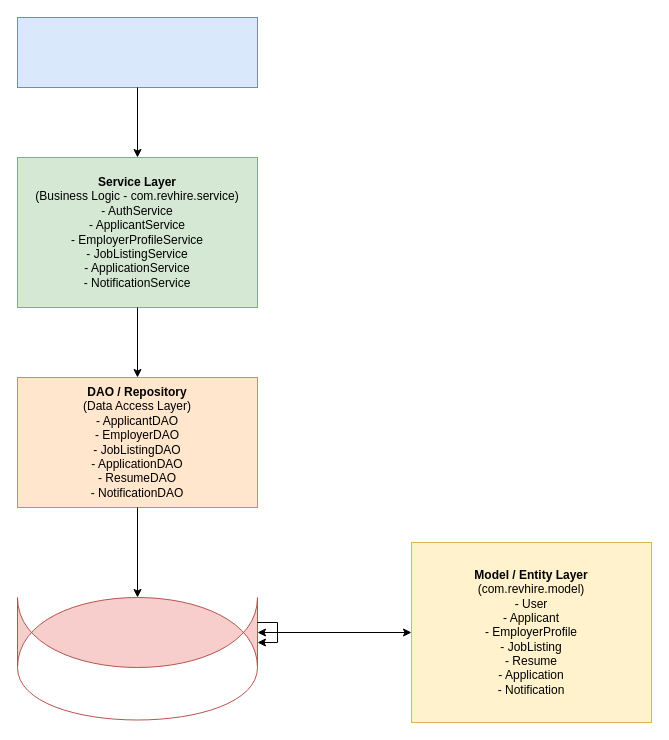
The diagram is 669 pixels wide and 740 high, and some of its shapes have lost their labels. Each missing label, with the centre of its shape:
Console UI (UI Layer - com.revhire.ui): point 137,52
Database (RDBMS) (MySQL / Oracle): point 137,632
